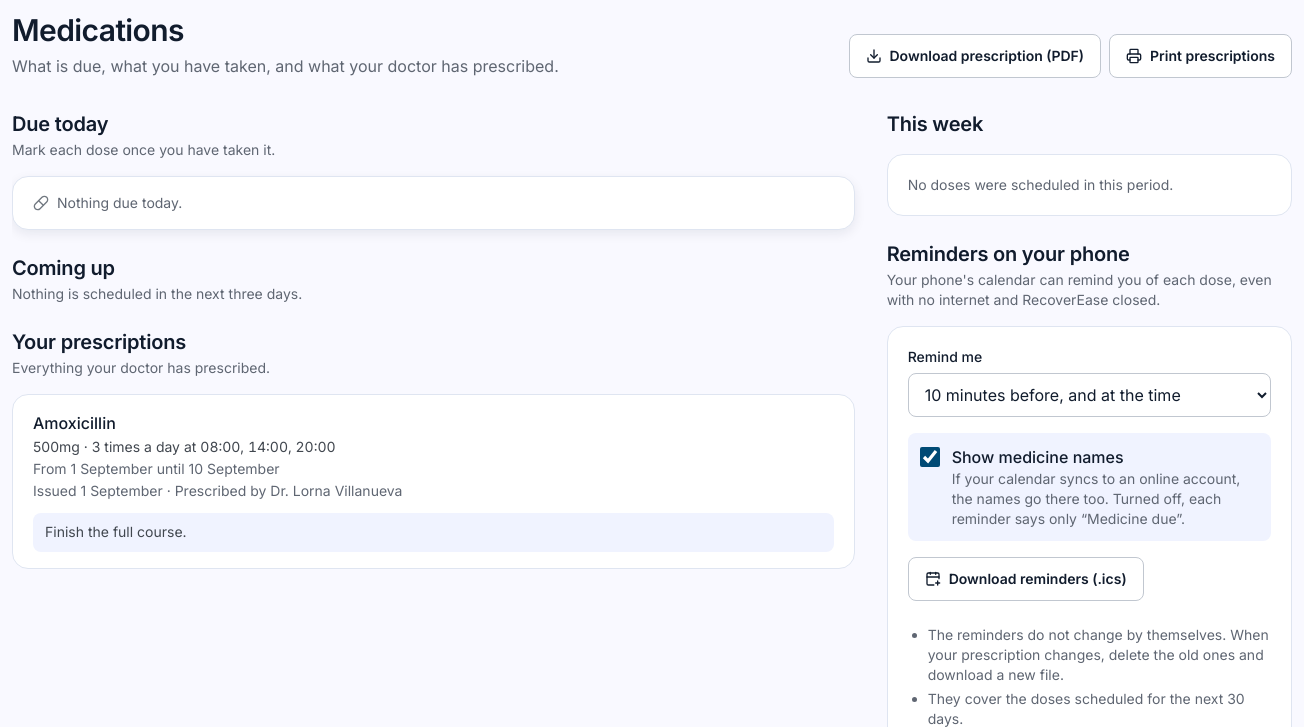
it: printing prescriptions from the medication page › says where the prescription went when the browser opened it in a tab
Click the button "Print prescriptions" at (1201, 56), box [1109, 34, 1292, 78]
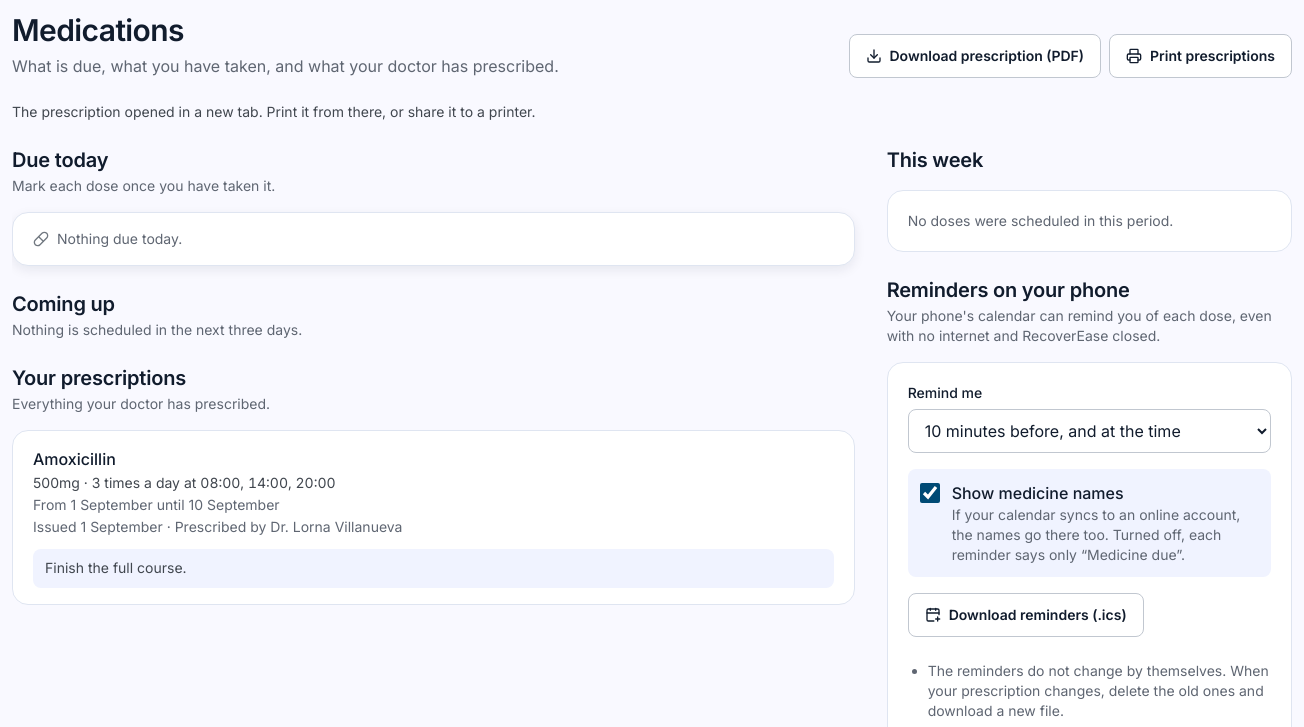
Expected: the text "The prescription opened in a new tab. Print it from there, or share it to a printer." is shown, [12, 103, 536, 120]
